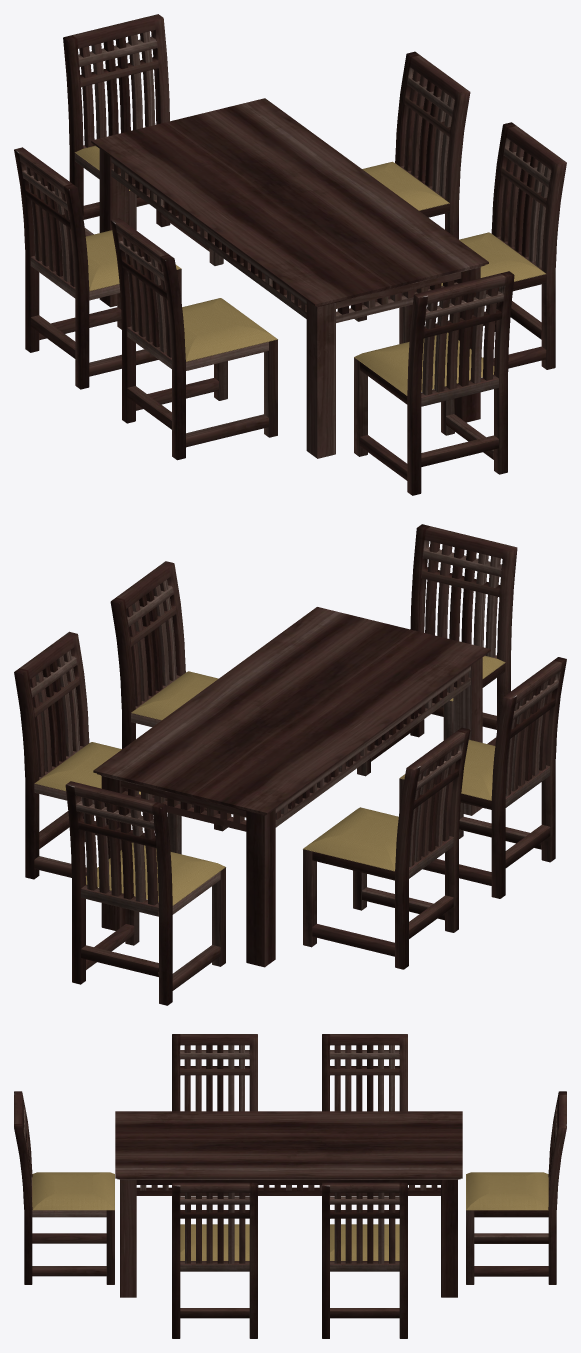
The model's file is Table.glb.
3 renders of one model, top to bottom at view 1: azimuth 30°, elevation 25°; view 2: azimuth 150°, elevation 25°; view 3: azimuth 270°, elevation 25°, orthographic. The views are drawn at different scales.
Visible parts, largest first — view 1: Box096_Chair_0, Plane001_Table_0; view 2: Box096_Chair_0, Plane001_Table_0; view 3: Box096_Chair_0, Plane001_Table_0.
Part boxes in pixels (x1,y1,x2,y2): Box096_Chair_0: (14, 14, 566, 495); Plane001_Table_0: (91, 98, 488, 458); Box096_Chair_0: (14, 524, 566, 1005); Plane001_Table_0: (93, 607, 490, 967); Box096_Chair_0: (14, 1034, 566, 1338); Plane001_Table_0: (115, 1111, 462, 1297).
Bounding box in the file's own units: 52.62 × 25.4 × 80.86.
2 materials, 2 textured.
